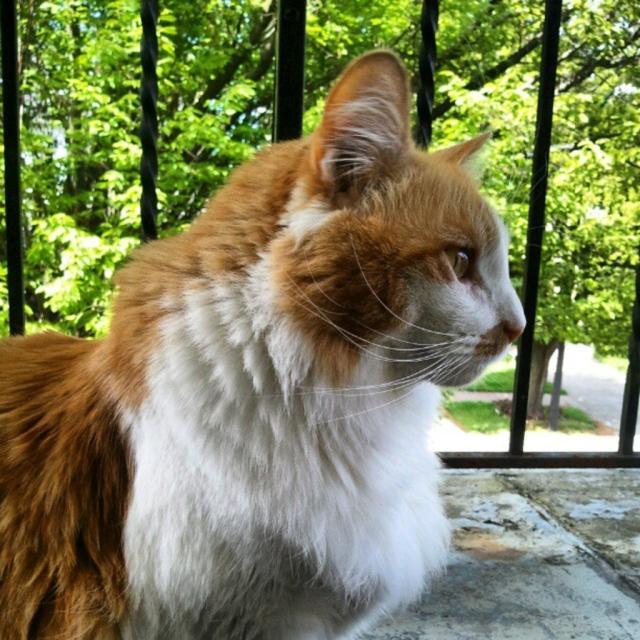Cat: (0, 52, 524, 638)
